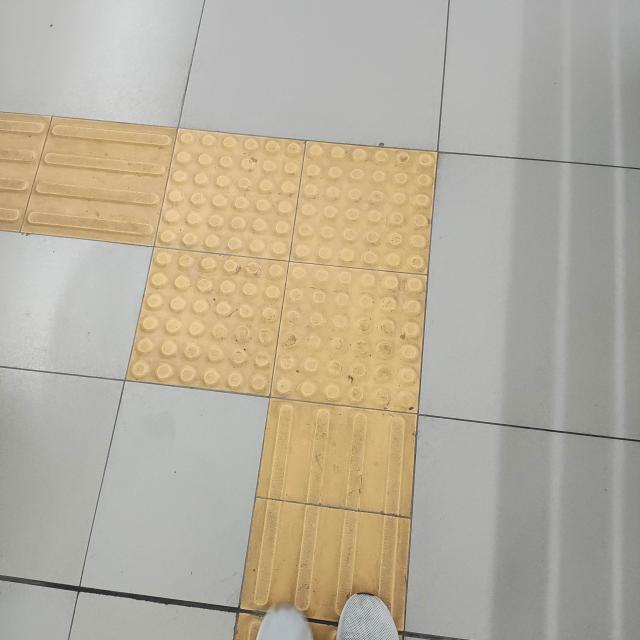kiri: (0, 72, 522, 532)
